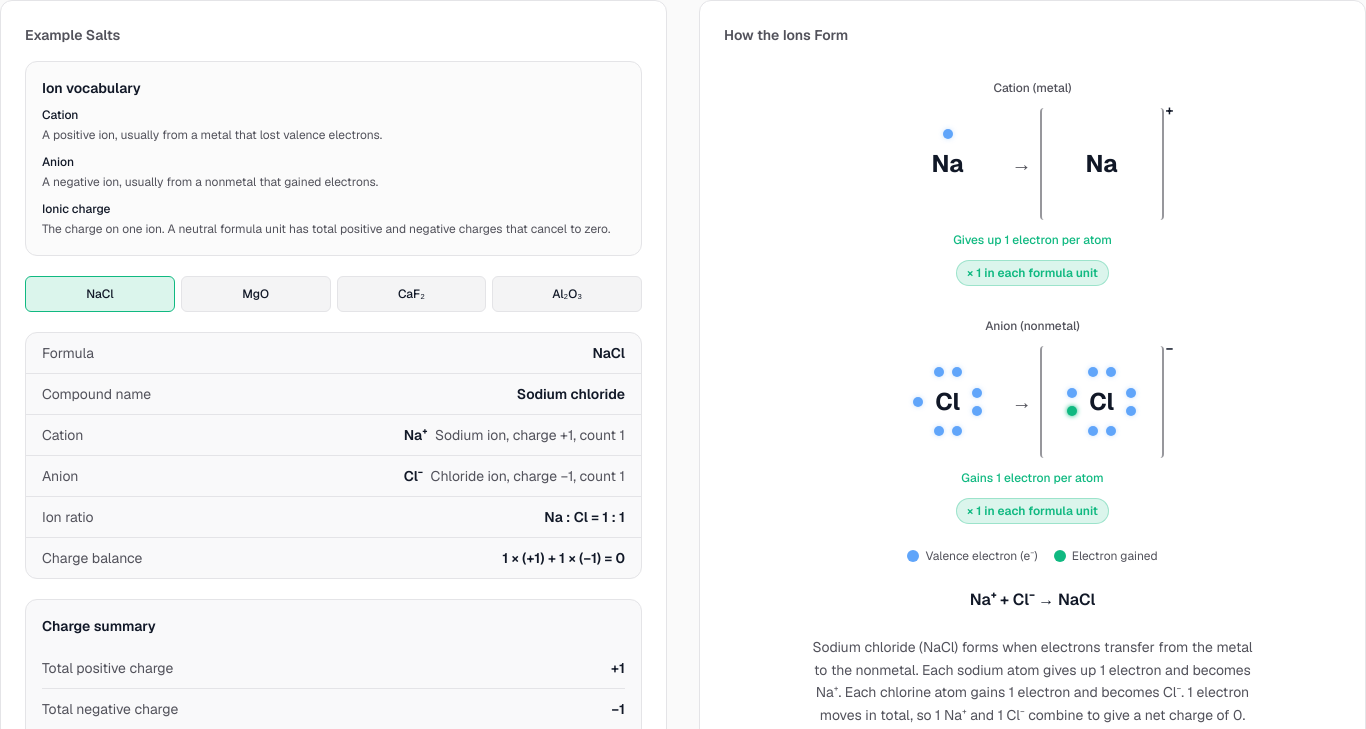
Test case: IonicCompoundExplorer › shows ion counts and explicit charges for a multivalent compound
The width and height of the screenshot is (1366, 729).
Click the button with aria-label "Aluminum oxide, Al2O3". click: (567, 294)
box: [492,276,642,312]
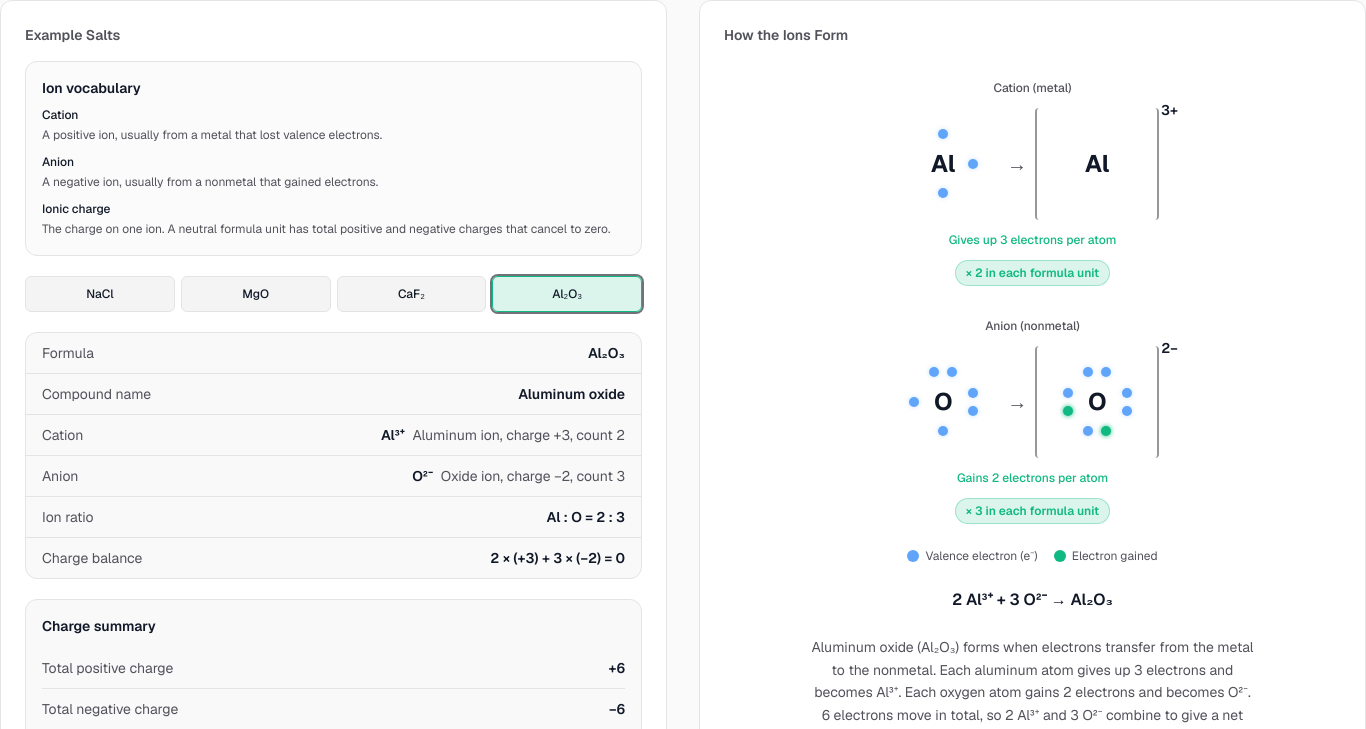
Result: the text "× 2 in each formula unit" is shown at [955,260,1110,286]
Result: the text "× 3 in each formula unit" is shown at [955,498,1110,524]
